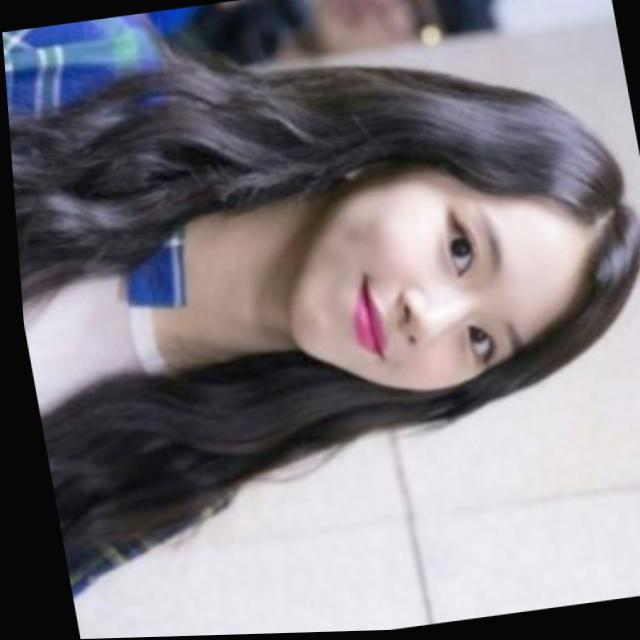face: (259, 163, 600, 416)
